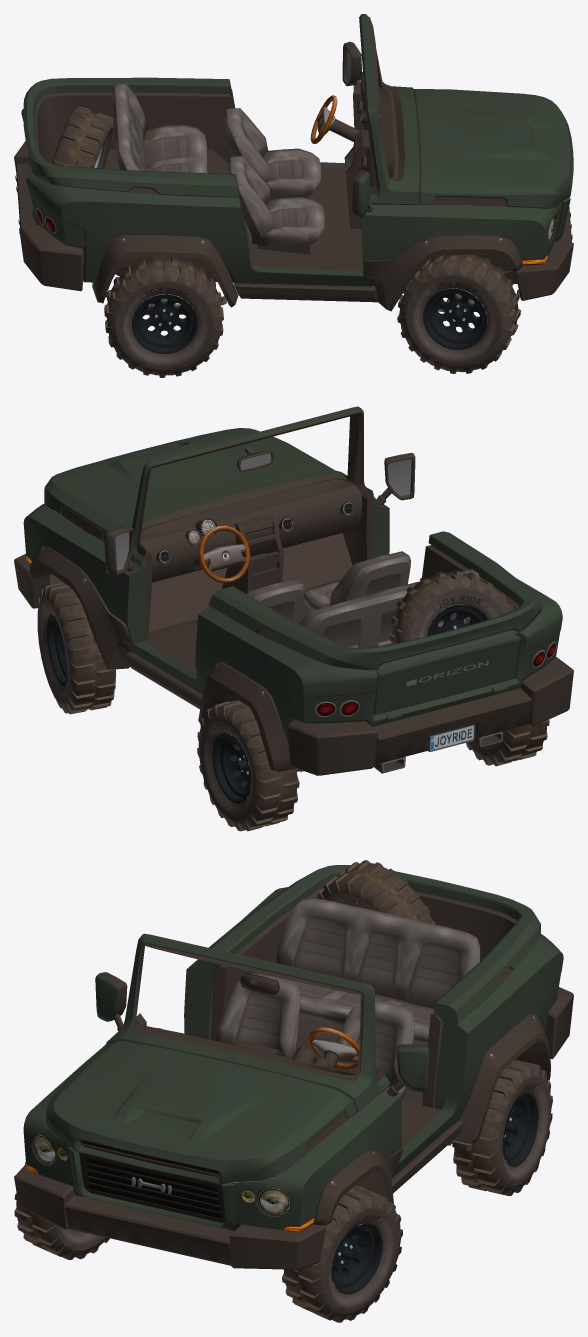
File: jeep.glb
3 views of the same model, one above another, from view 1: azimuth 30°, elevation 25°; view 2: azimuth 150°, elevation 25°; view 3: azimuth 270°, elevation 25° (orthographic). The views are drawn at different scales.
Parts seen in each view (by area): view 1: node_id780, node_id778, node_id807, node_id769, node_id759, node_id766, node_id762, node_id755, node_id764, node_id757, node_id737, node_id711 (+2 smaller); view 2: node_id780, node_id778, node_id807, node_id745, node_id752, node_id769, node_id737, node_id748, node_id750, node_id733, node_id759, node_id711 (+9 smaller); view 3: node_id780, node_id778, node_id769, node_id807, node_id788, node_id752, node_id745, node_id737, node_id741, node_id743, node_id748, node_id709 (+8 smaller).
Boxes of the visible parts, x1=… form: node_id780: x1=21, y1=14, x2=573, y2=285; node_id778: x1=14, y1=17, x2=573, y2=311; node_id807: x1=224, y1=108, x2=324, y2=246; node_id769: x1=112, y1=84, x2=207, y2=173; node_id759: x1=104, y1=257, x2=223, y2=377; node_id766: x1=397, y1=255, x2=520, y2=373; node_id762: x1=406, y1=275, x2=502, y2=366; node_id755: x1=115, y1=281, x2=214, y2=369; node_id764: x1=423, y1=288, x2=487, y2=349; node_id757: x1=132, y1=294, x2=197, y2=353; node_id737: x1=51, y1=106, x2=113, y2=167; node_id711: x1=342, y1=41, x2=372, y2=216; node_id780: x1=23, y1=406, x2=562, y2=743; node_id778: x1=14, y1=411, x2=573, y2=775; node_id807: x1=196, y1=551, x2=410, y2=624; node_id745: x1=37, y1=583, x2=116, y2=714; node_id752: x1=197, y1=699, x2=299, y2=831; node_id769: x1=299, y1=569, x2=480, y2=648; node_id737: x1=388, y1=569, x2=515, y2=644; node_id748: x1=199, y1=716, x2=256, y2=821; node_id750: x1=212, y1=733, x2=251, y2=803; node_id733: x1=411, y1=588, x2=505, y2=640; node_id759: x1=466, y1=719, x2=549, y2=766; node_id711: x1=106, y1=453, x2=415, y2=575; node_id780: x1=23, y1=865, x2=563, y2=1230; node_id778: x1=14, y1=887, x2=573, y2=1269; node_id769: x1=260, y1=898, x2=480, y2=1044; node_id807: x1=216, y1=973, x2=414, y2=1117; node_id788: x1=78, y1=1139, x2=225, y2=1222; node_id752: x1=452, y1=1060, x2=552, y2=1196; node_id745: x1=282, y1=1185, x2=402, y2=1322; node_id737: x1=318, y1=860, x2=435, y2=924; node_id741: x1=323, y1=1207, x2=398, y2=1312; node_id743: x1=331, y1=1223, x2=382, y2=1294; node_id748: x1=498, y1=1076, x2=551, y2=1185; node_id709: x1=95, y1=974, x2=428, y2=1091.
Size of the model in its own units: 0.8758 by 0.4105 by 0.7301.
48 materials, 48 textured.
